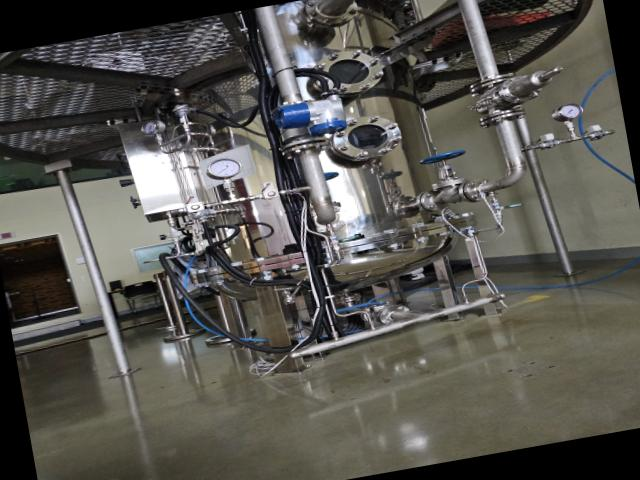Flange: (306, 43, 388, 102), (325, 108, 405, 168)
Flush Ring: (300, 200, 351, 236), (300, 0, 361, 30), (277, 133, 334, 161), (464, 70, 518, 98), (456, 174, 498, 205), (477, 104, 529, 128), (373, 301, 413, 330), (416, 186, 454, 214)
GasRegulator: (136, 95, 232, 166)
Nuts: (182, 200, 208, 216), (585, 127, 611, 142), (538, 136, 562, 151), (258, 187, 282, 201)
Piston Valve: (416, 147, 471, 191), (296, 170, 344, 211)
Pressure Gage: (203, 154, 248, 202), (548, 100, 588, 140)
